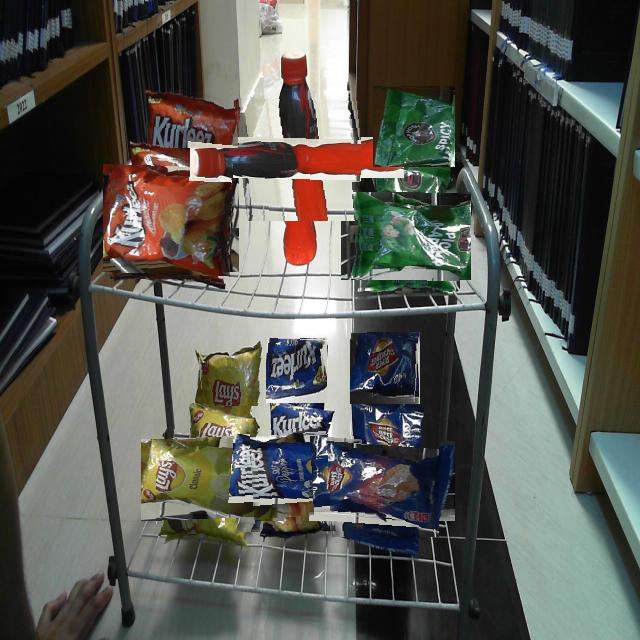Plastic: (233, 93, 361, 221), (110, 157, 233, 279), (156, 423, 269, 536), (326, 424, 439, 537), (352, 182, 460, 291), (249, 422, 347, 520), (373, 85, 455, 167), (146, 85, 240, 148), (350, 332, 420, 404), (197, 341, 264, 406), (266, 337, 327, 403)
